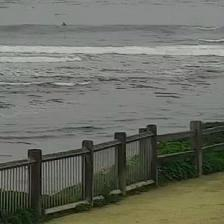surfer: (61, 22, 68, 26)
